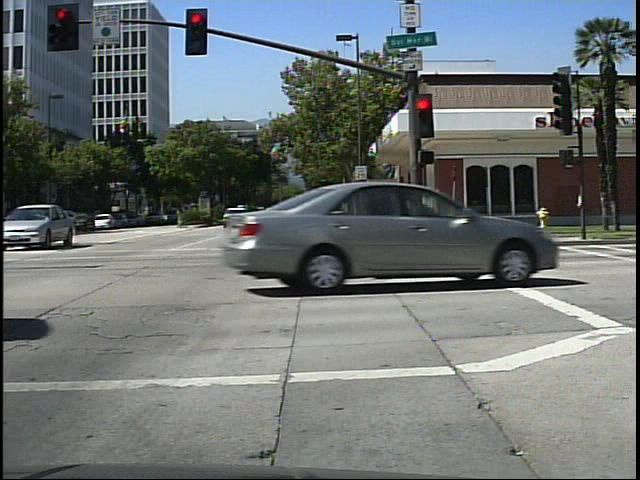person: (275, 204, 288, 222)
